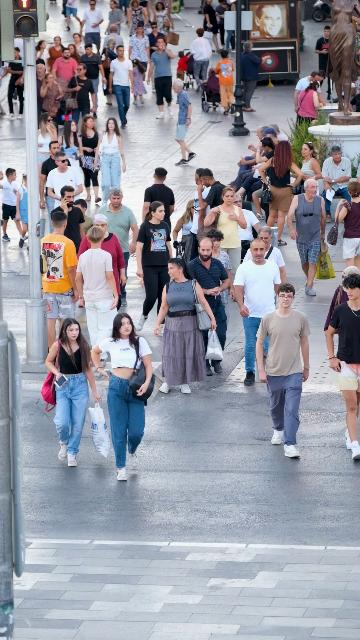person: (90, 312, 153, 484), (255, 282, 312, 459), (154, 256, 217, 395), (43, 318, 101, 468), (233, 238, 282, 386), (326, 273, 360, 460), (185, 237, 230, 375), (39, 210, 80, 351), (75, 226, 120, 349), (94, 186, 139, 306), (135, 201, 173, 335), (258, 141, 305, 247), (286, 178, 326, 297), (79, 214, 127, 308), (202, 186, 249, 279), (243, 226, 287, 303), (45, 151, 85, 235), (190, 169, 225, 261), (93, 117, 127, 205), (235, 136, 279, 201), (50, 185, 88, 254), (228, 137, 275, 190), (205, 228, 238, 303), (321, 146, 353, 222), (146, 37, 175, 120), (142, 167, 176, 235), (76, 114, 101, 203), (78, 43, 107, 119), (67, 63, 96, 138), (241, 41, 272, 111), (109, 45, 134, 129), (172, 79, 196, 166), (230, 126, 264, 186), (233, 194, 262, 263), (40, 141, 69, 209), (237, 127, 276, 176), (52, 47, 78, 117), (0, 168, 23, 242), (173, 199, 200, 260), (3, 47, 25, 120), (294, 141, 323, 194), (189, 28, 213, 89), (60, 120, 83, 183), (214, 50, 236, 115), (293, 70, 325, 114), (297, 80, 326, 127), (80, 0, 104, 56), (37, 113, 60, 169), (40, 73, 70, 115), (252, 158, 272, 220), (314, 25, 331, 96), (99, 39, 116, 105), (126, 0, 150, 38), (128, 24, 150, 64), (152, 1, 174, 41), (35, 63, 48, 129), (194, 168, 210, 221), (129, 59, 147, 106), (73, 199, 92, 238), (104, 25, 125, 60), (105, 0, 124, 37), (147, 22, 165, 57), (48, 36, 64, 69), (176, 51, 192, 81), (36, 40, 50, 74), (70, 33, 85, 57), (269, 124, 289, 141), (185, 48, 195, 80), (67, 44, 80, 64)
